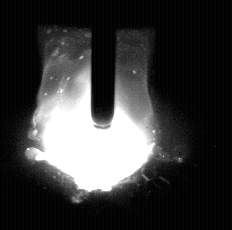arame: (92, 0, 117, 130)
poca: (43, 0, 155, 230)
